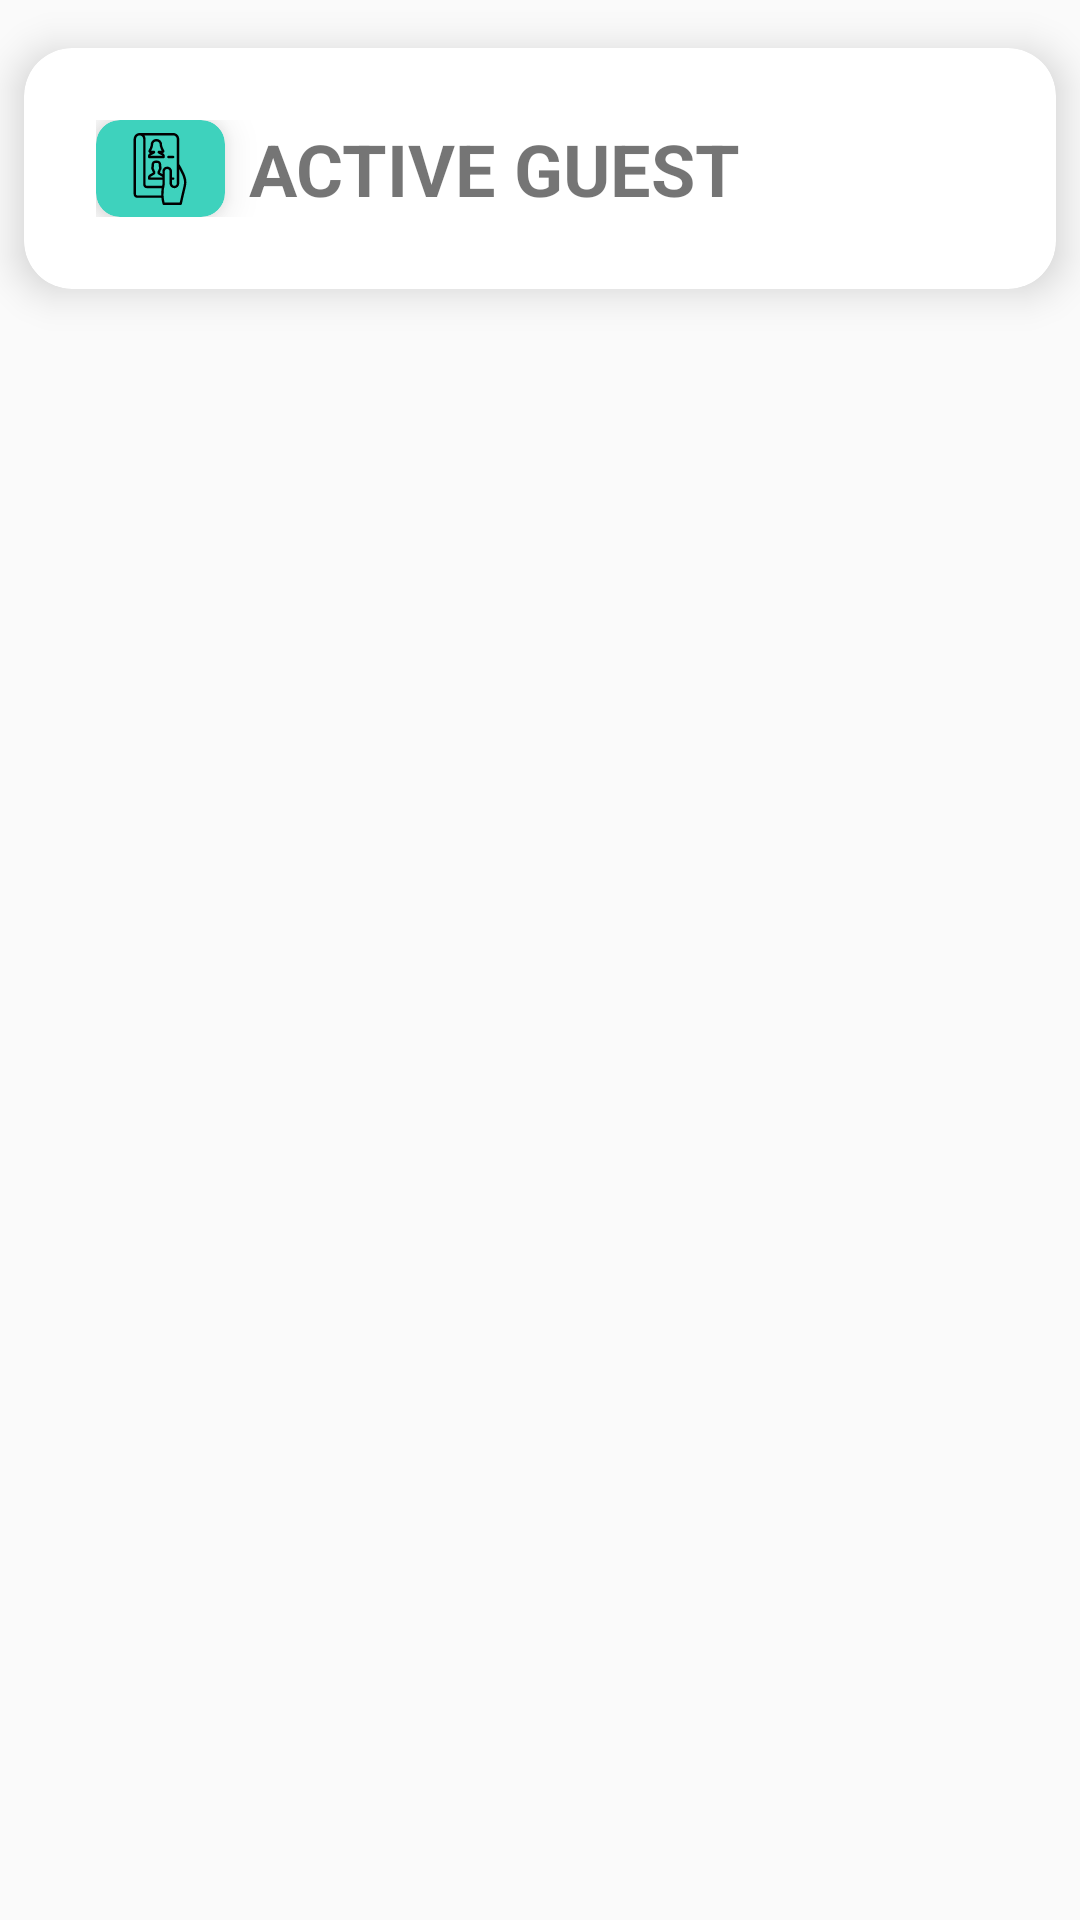

Icon bounding boxes for this 1080px x 1920px phone screenshot, format (x1, y1, x2, y2):
guest list: (133, 133, 187, 205)
